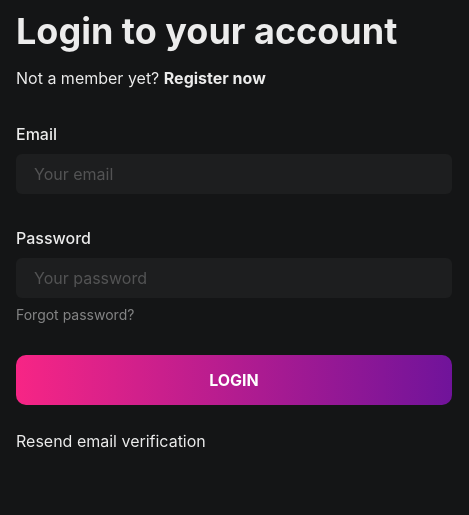
Login › fails both validation when no fields are provided
Click the button "Login": (234, 380) x1=16 y1=355 x2=452 y2=405
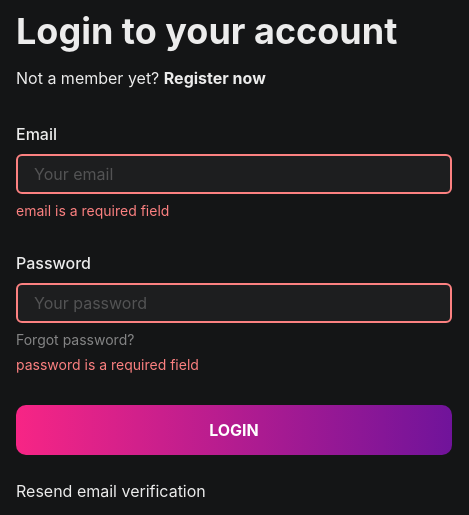
Expected: the text "password is a required field" is shown, x1=16 y1=356 x2=199 y2=373
Expected: the text "email is a required field" is shown, x1=16 y1=202 x2=169 y2=219
